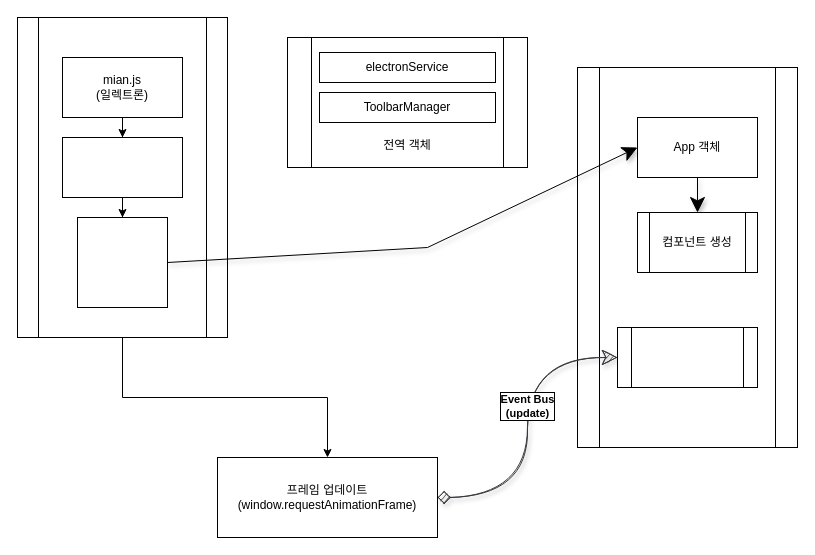
Some shapes in this 815 by 555 pixel diagram are drawn without their labels. The centre of each missing label's shape, as x and y in pixels:
"./dist/bundle.js" belongs at (122,167).
"Main 클래스 (js/index.ts)" belongs at (122,262).
"컴포넌트 업데이트" belongs at (687,357).
